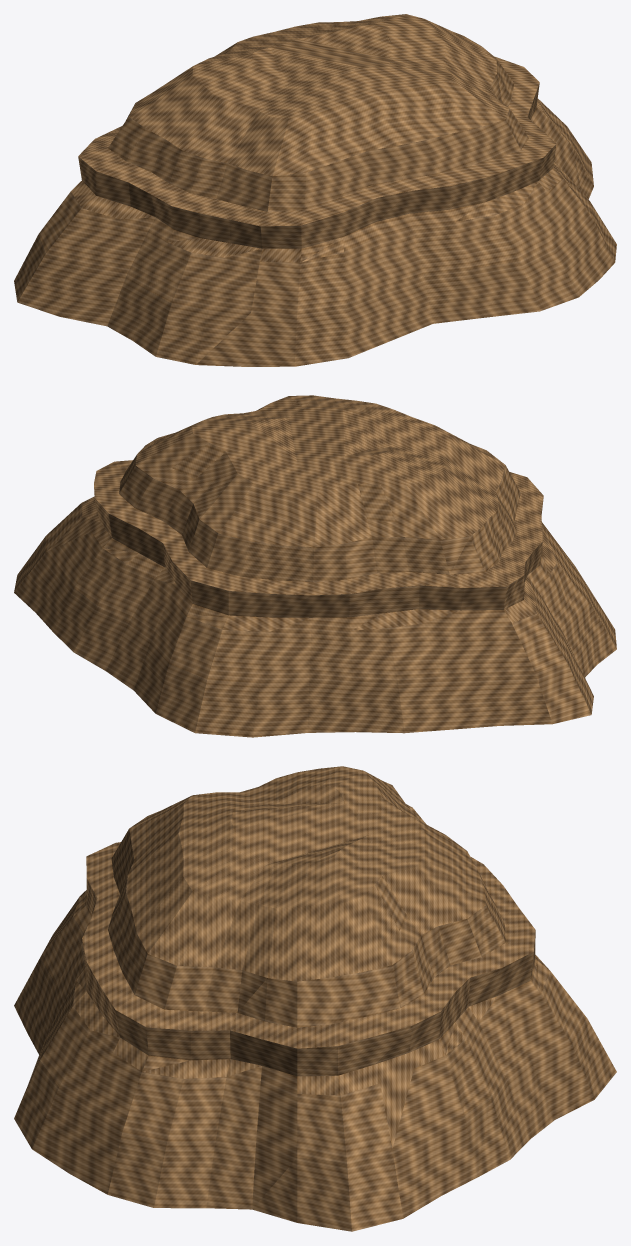
The model's file is 1949_low_sandstone_hill_western_side.dae.
3 renders of one model, top to bottom at view 1: azimuth 30°, elevation 25°; view 2: azimuth 150°, elevation 25°; view 3: azimuth 270°, elevation 25°, orthographic. The views are drawn at different scales.
Parts seen in each view (by area): view 1: Node; view 2: Node; view 3: Node.
Part boxes in pixels (x1=…): Node: x1=14, y1=14, x2=616, y2=366; Node: x1=14, y1=395, x2=616, y2=737; Node: x1=14, y1=766, x2=616, y2=1231.
Bounding box in the file's own units: 26.55 × 19.95 × 9.13.
1 material, 1 textured.
